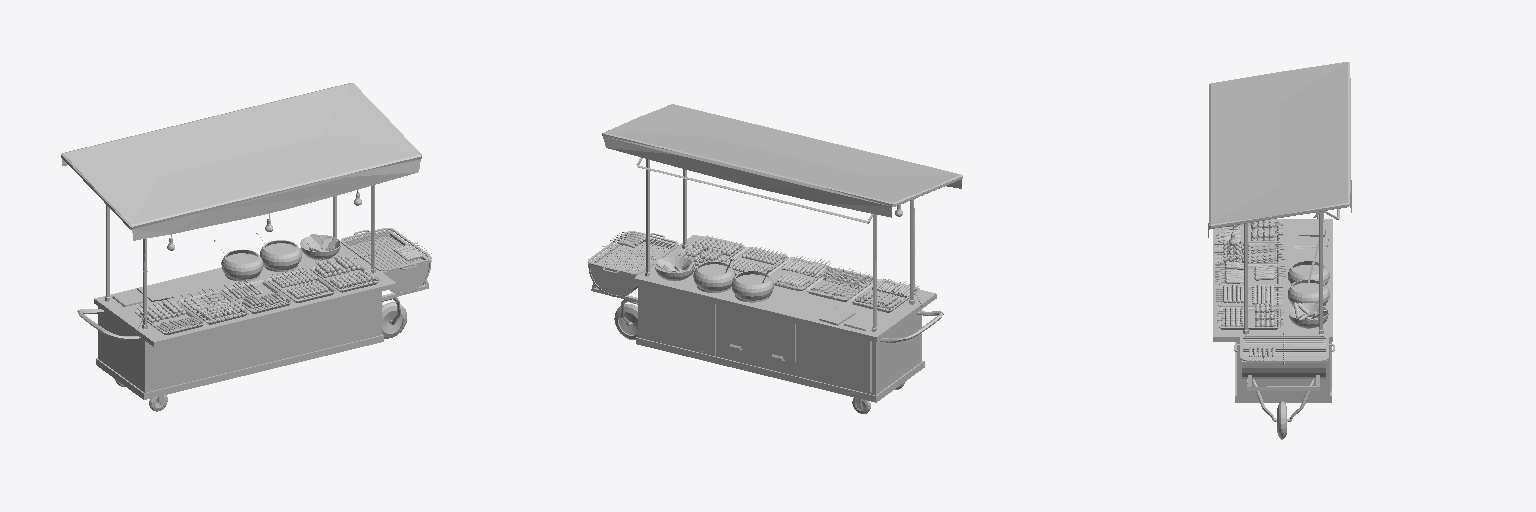
The model's file is Street_Food.obj.
3 renders of one model, left to right at view 1: azimuth 30°, elevation 25°; view 2: azimuth 150°, elevation 25°; view 3: azimuth 270°, elevation 25°, orthographic.
Parts seen in each view (by area): view 1: cart, grill, cart_decor, blow_glass, tray01, tray04, tray03, tray02, tray05; view 2: cart, grill, cart_decor, blow_glass, tray04, tray03, tray05, tray01, tray02; view 3: cart, grill, cart_decor, tray01, tray03, tray02, tray04, tray05, blow_glass.
Boxes of the visible parts, x1,y1,x2,y2 form: cart: [61, 83, 421, 399]; grill: [77, 228, 431, 411]; cart_decor: [112, 233, 340, 306]; blow_glass: [221, 240, 301, 281]; tray01: [310, 255, 380, 292]; tray04: [178, 288, 249, 324]; tray03: [222, 280, 293, 313]; tray02: [266, 267, 337, 302]; tray05: [134, 298, 205, 334]; cart: [602, 104, 962, 402]; grill: [588, 231, 943, 413]; cart_decor: [654, 256, 878, 330]; blow_glass: [693, 261, 773, 302]; tray04: [805, 266, 872, 301]; tray03: [768, 256, 831, 290]; tray05: [849, 278, 919, 312]; tray01: [675, 235, 744, 265]; tray02: [724, 247, 788, 275]; cart: [1208, 62, 1351, 402]; grill: [1234, 213, 1334, 439]; cart_decor: [1288, 224, 1328, 328]; tray01: [1217, 303, 1283, 329]; tray03: [1215, 262, 1285, 284]; tray02: [1216, 285, 1282, 306]; tray04: [1214, 240, 1284, 263]; tray05: [1216, 220, 1282, 242]; blow_glass: [1288, 261, 1329, 305].
Bounding box in the file's own units: 154 × 105 × 58.19.